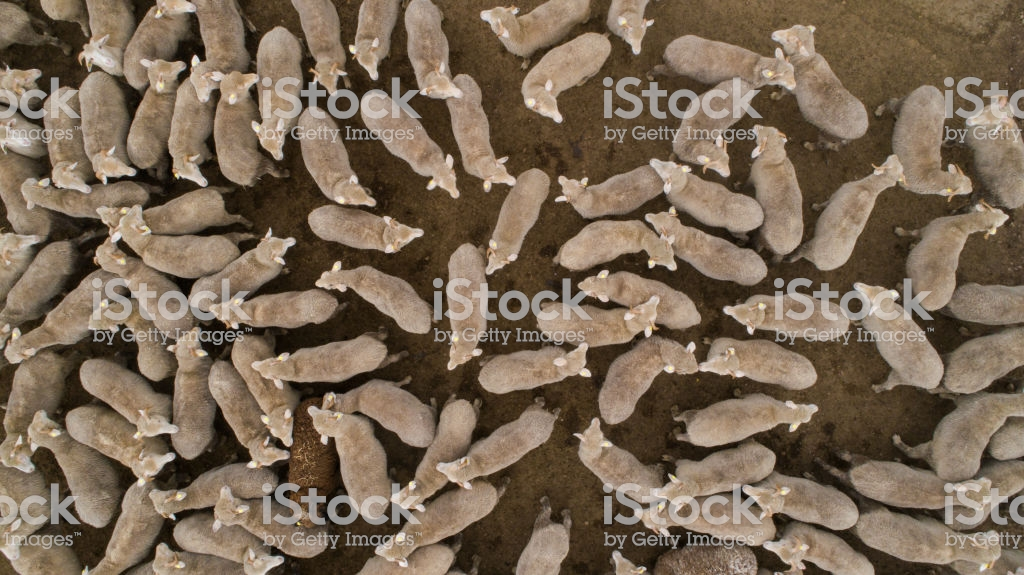sheep: (792, 156, 907, 272), (776, 20, 877, 148), (432, 393, 564, 490), (902, 202, 1018, 310), (6, 258, 121, 364), (846, 276, 946, 396), (371, 477, 505, 566), (26, 402, 117, 527), (884, 81, 974, 206), (307, 401, 395, 525), (359, 86, 456, 193), (671, 392, 827, 458), (652, 25, 797, 96), (62, 394, 174, 485), (91, 240, 197, 336), (859, 503, 1005, 572), (669, 72, 759, 181), (649, 150, 764, 234), (569, 414, 668, 508), (208, 485, 333, 558), (211, 66, 282, 193), (315, 259, 432, 336), (521, 26, 615, 121), (661, 437, 785, 509), (322, 373, 438, 449), (116, 206, 242, 275), (291, 108, 375, 211), (80, 356, 179, 443), (570, 262, 698, 328), (1, 231, 83, 334), (446, 69, 515, 185), (94, 186, 250, 237), (722, 287, 847, 349), (118, 55, 190, 162), (144, 464, 284, 518), (484, 168, 552, 277), (701, 330, 818, 392), (77, 70, 140, 185), (442, 240, 496, 370), (250, 338, 404, 383), (474, 340, 595, 397), (399, 1, 463, 108), (252, 27, 304, 158), (555, 163, 674, 220), (39, 78, 98, 192), (472, 1, 592, 57), (205, 289, 344, 337), (20, 173, 149, 221), (166, 70, 216, 189), (291, 1, 351, 98), (187, 4, 246, 101), (77, 1, 135, 76), (344, 2, 396, 82)
